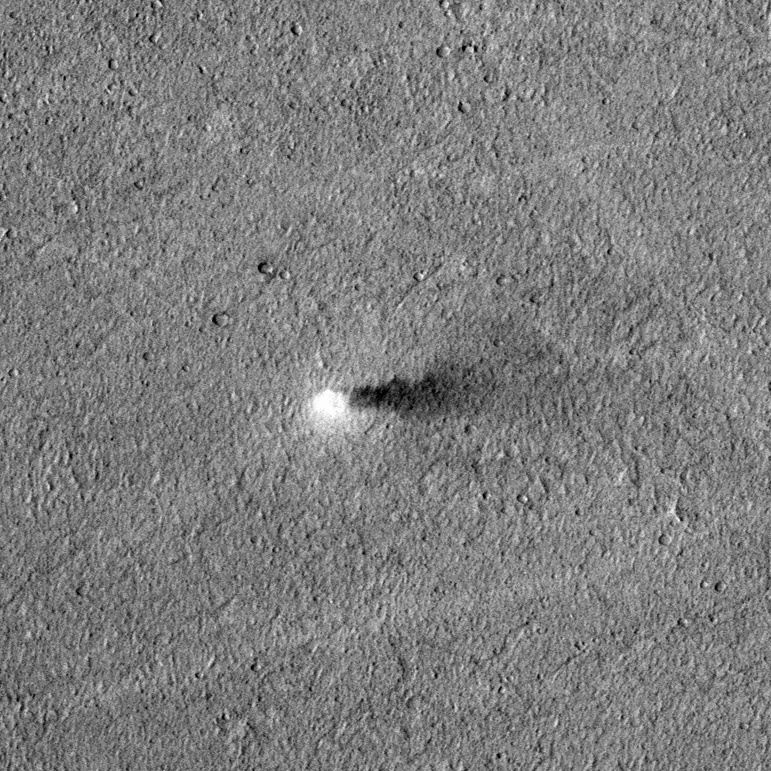dust_devil: (308, 363, 483, 425)
